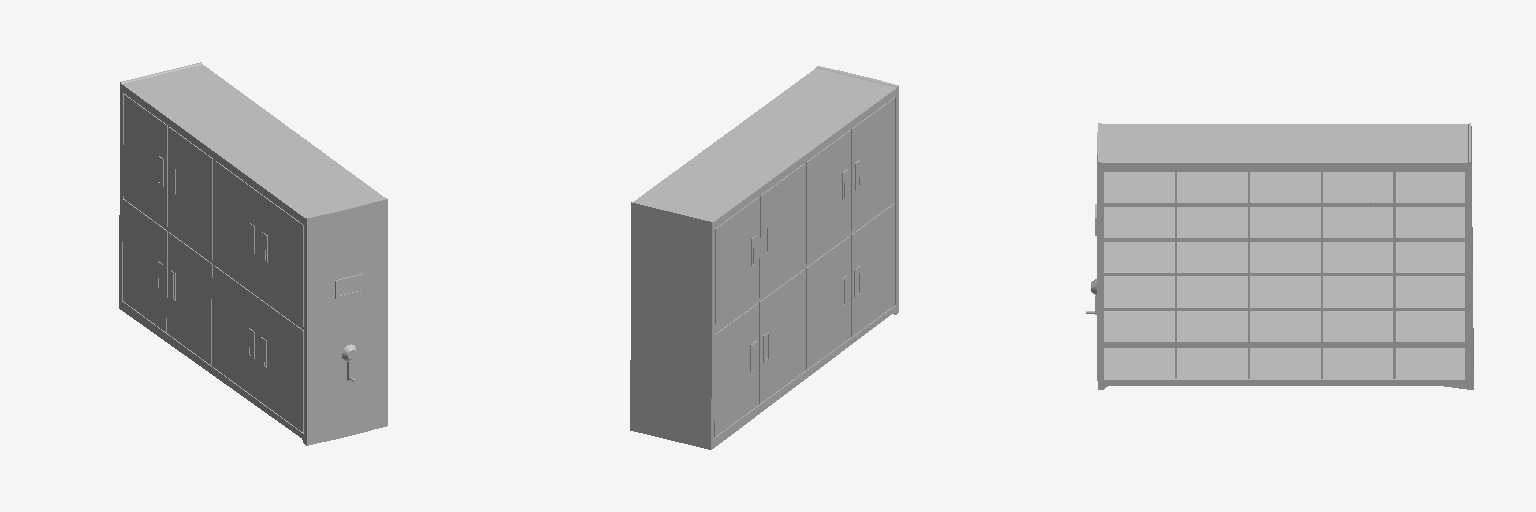
File: mjjleft6-5.obj
3 renders of one model, left to right at view 1: azimuth 30°, elevation 25°; view 2: azimuth 150°, elevation 25°; view 3: azimuth 270°, elevation 25°, orthographic.
Visible parts, largest first — view 1: mjj; view 2: mjj; view 3: mjj.
Part boxes in pixels (x1,y1,x2,y2): mjj: (119, 62, 387, 445); mjj: (630, 66, 898, 449); mjj: (1097, 123, 1473, 389).
Bounding box in the file's own units: 35.84 × 94.93 × 147.